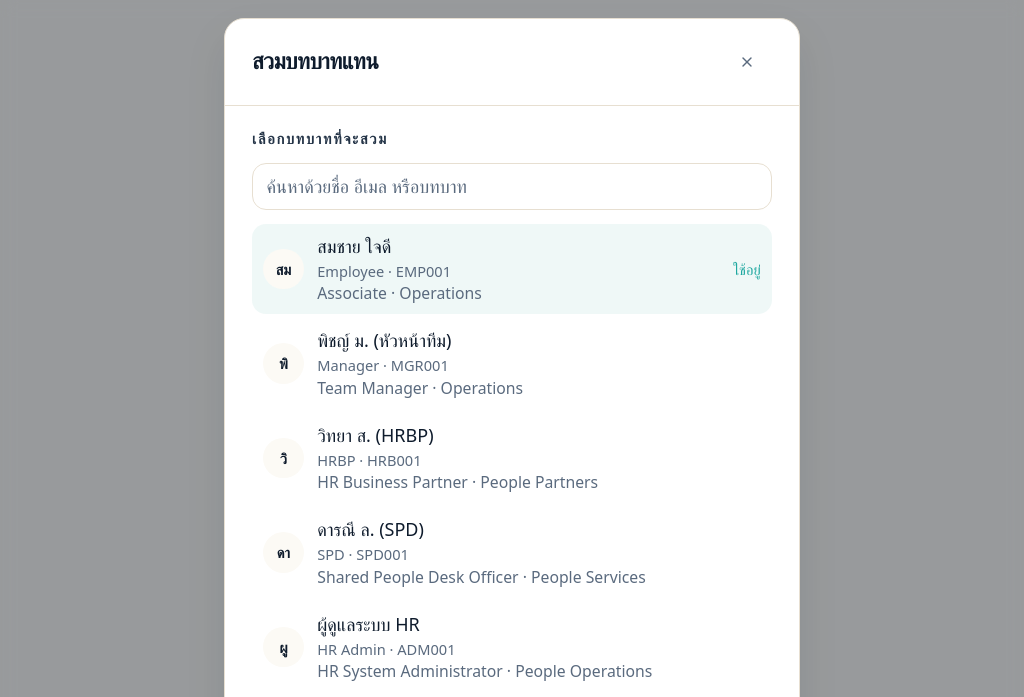
Scenario: PersonaSwitcher — SF realignment › AC4: search filter is case-insensitive and matches email too
This screenshot has width=1024, height=697.
Type "WORAWEE@HUMI" into the search field with placeholder "ค้นหาด้วยชื่อ อีเมล หรือบทบาท" at (512, 187), box [252,163,772,210]
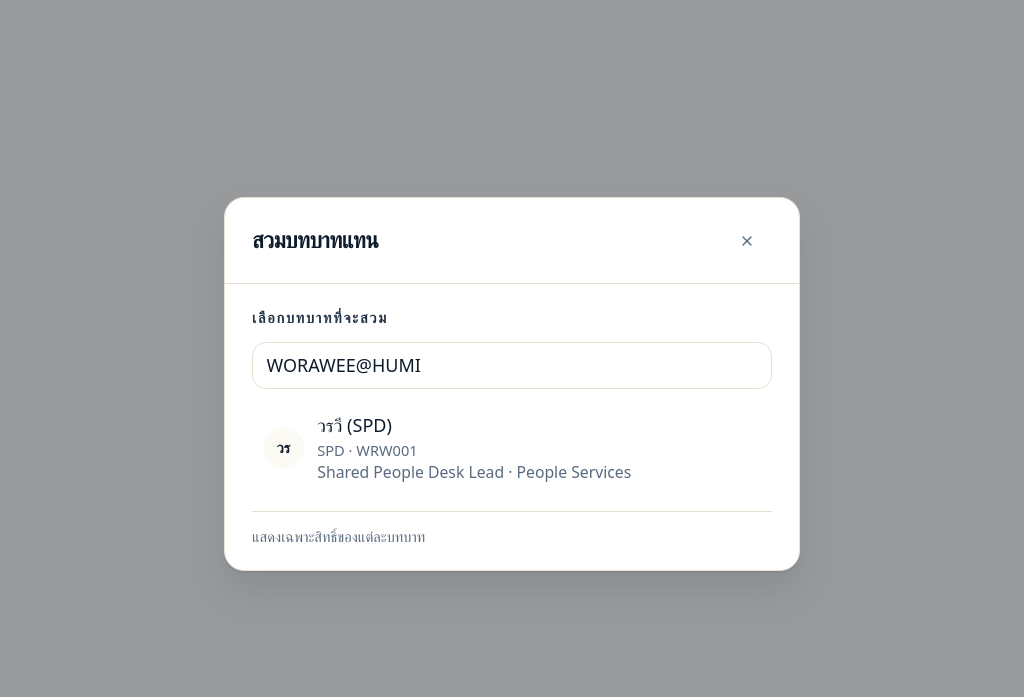
Check: the text "วรวี (SPD)" is shown, box [317,413,392,437]
